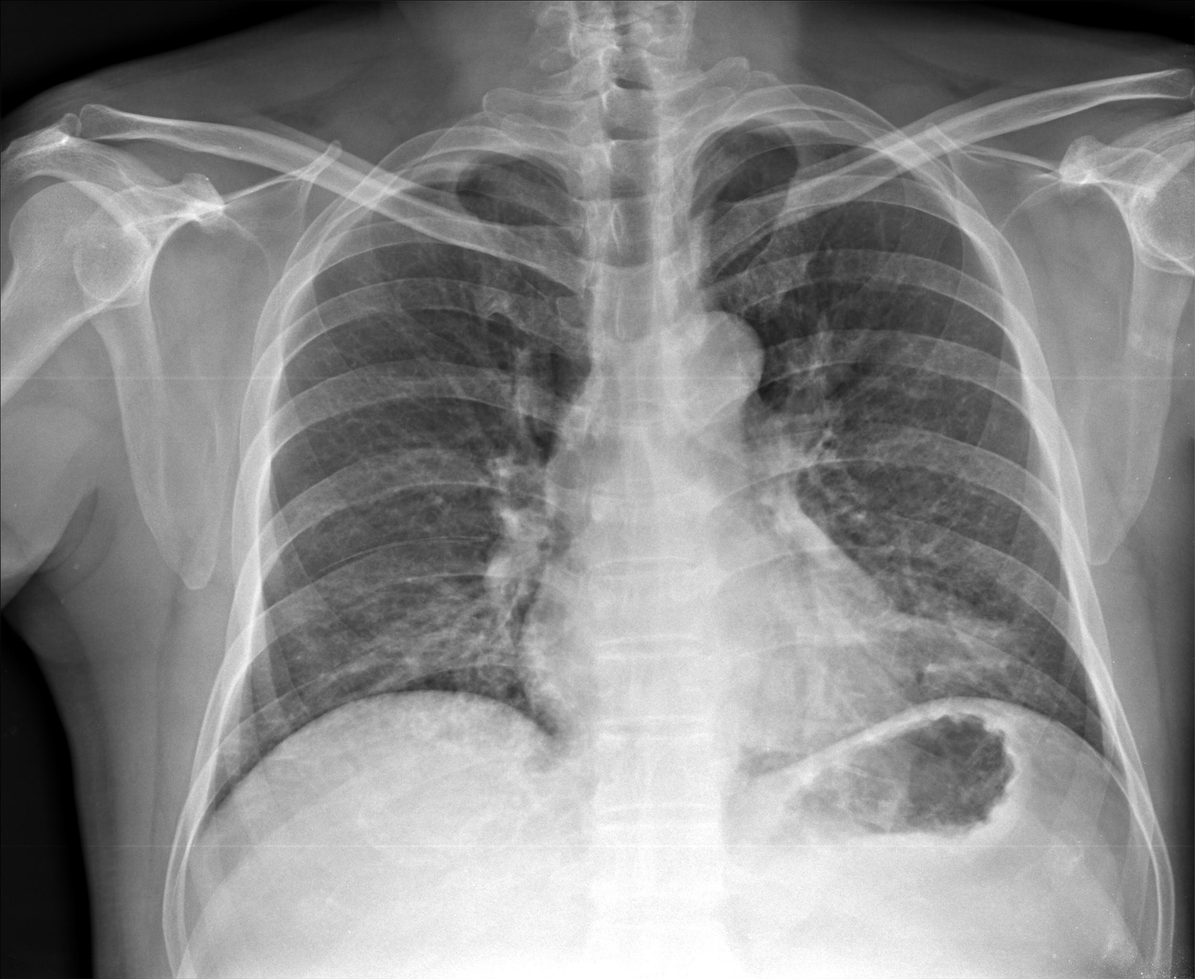Pleural thickening: (737, 109, 874, 145), (396, 152, 525, 184)
